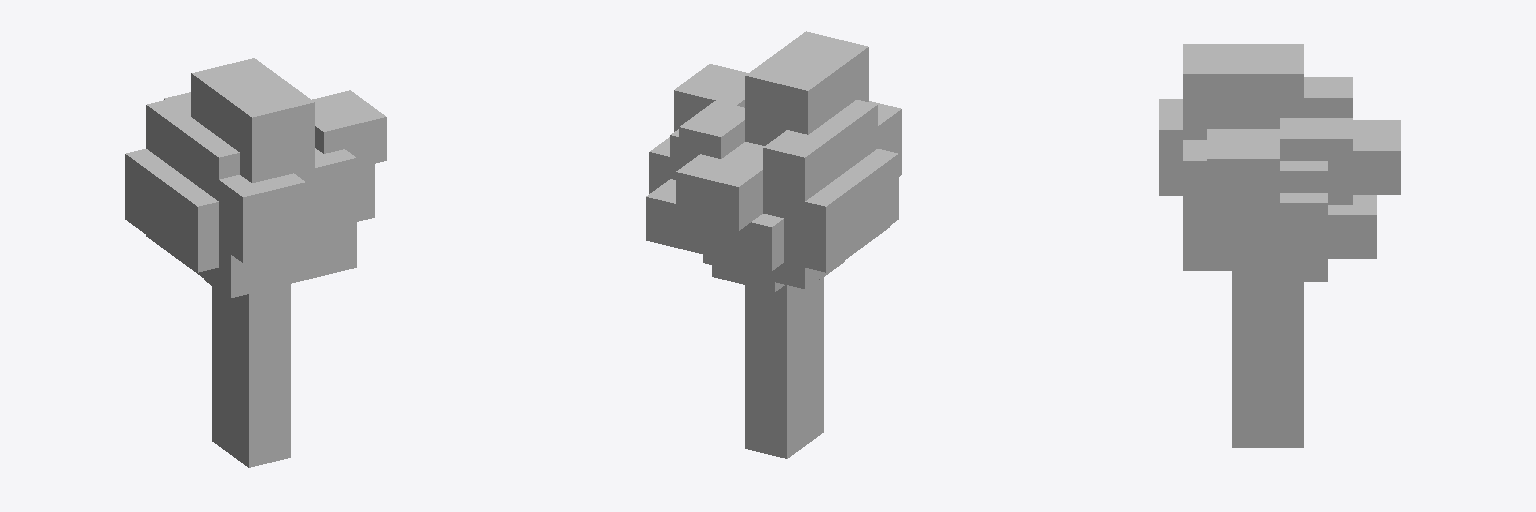
File: Tree.obj
The picture shows the model from 3 angles: view 1: azimuth 30°, elevation 25°; view 2: azimuth 150°, elevation 25°; view 3: azimuth 270°, elevation 25°; orthographic projection.
Parts seen in each view (by area): view 1: object 1; view 2: object 1; view 3: object 1.
Boxes of the visible parts, <box> form: object 1: <box>125,58,386,467</box>; object 1: <box>646,31,901,458</box>; object 1: <box>1159,44,1400,447</box>.
Bounding box in the file's own units: 0.9 × 1.7 × 1.